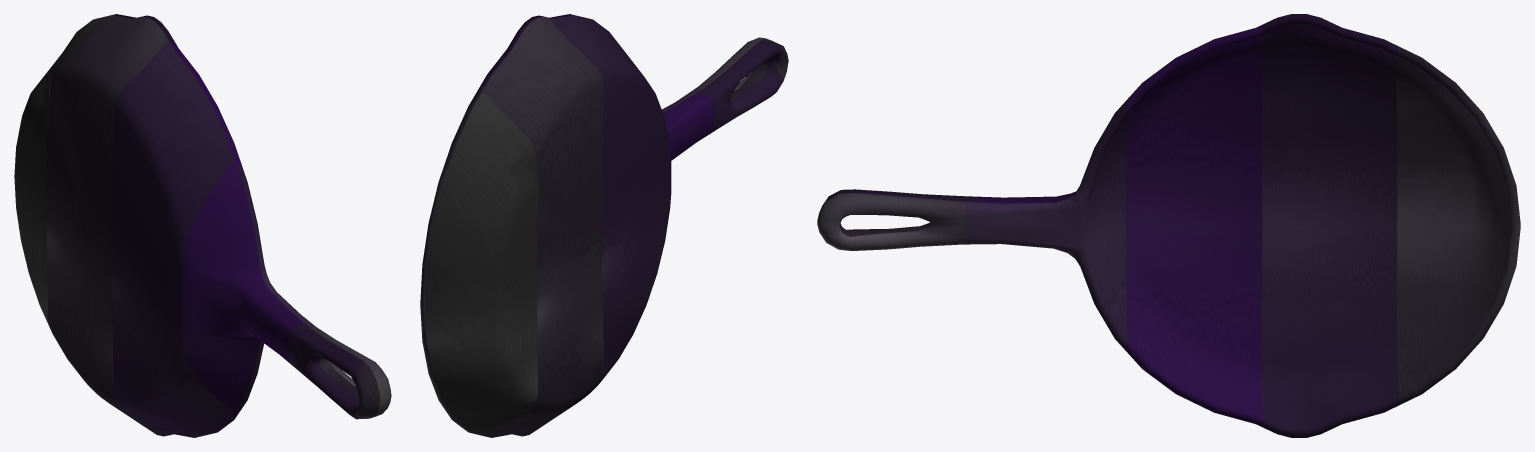
The model's file is black_hole_frying_pan.obj.
3 views of the same model, side by side, from view 1: azimuth 30°, elevation 25°; view 2: azimuth 150°, elevation 25°; view 3: azimuth 270°, elevation 25° (orthographic). The views are drawn at different scales.
Parts seen in each view (by area): view 1: tf2FryingPan.001; view 2: tf2FryingPan.001; view 3: tf2FryingPan.001.
Boxes of the visible parts, <box> form: tf2FryingPan.001: <box>14,14,391,437</box>; tf2FryingPan.001: <box>420,14,788,437</box>; tf2FryingPan.001: <box>817,14,1520,437</box>.
Bounding box in the file's own units: 2.63 × 16.42 × 24.84.
